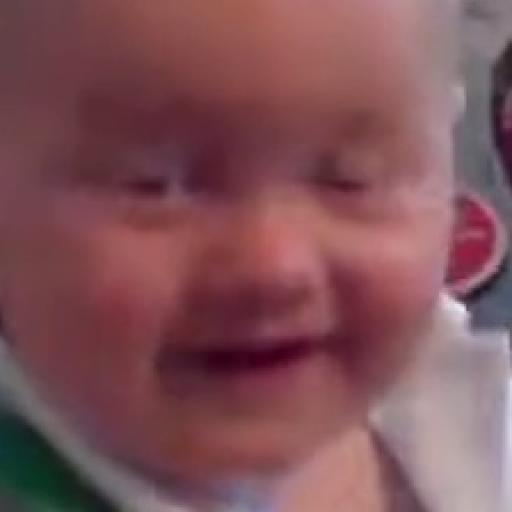Autism: (22, 11, 459, 467)
